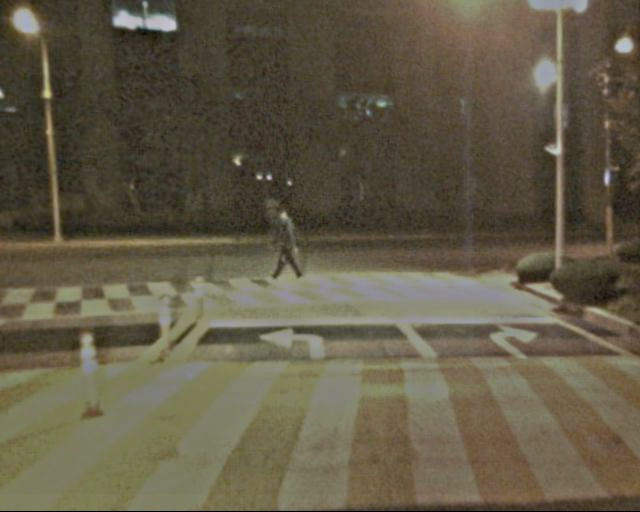person: (267, 205, 303, 294)
